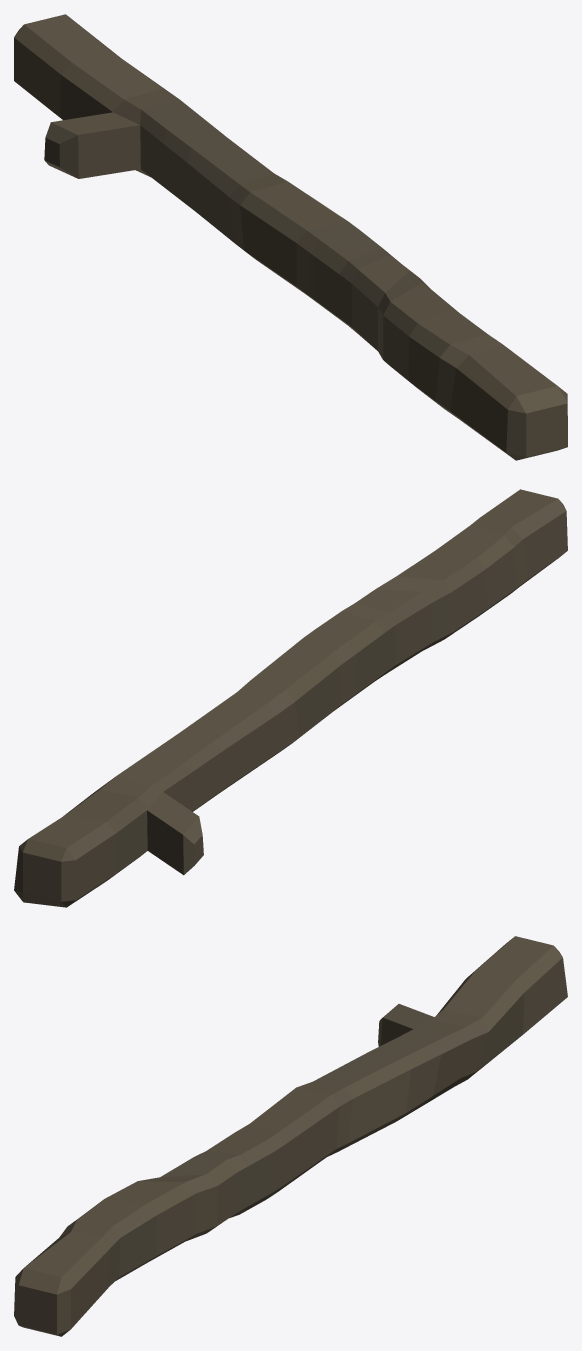
File: OakTwig.fbx
3 renders of one model, top to bottom at view 1: azimuth 30°, elevation 25°; view 2: azimuth 150°, elevation 25°; view 3: azimuth 330°, elevation 25°, orthographic. The views are drawn at different scales.
Visible parts, largest first — view 1: Cube; view 2: Cube; view 3: Cube.
Part boxes in pixels (x1=…): Cube: x1=14, y1=14, x2=567, y2=460; Cube: x1=14, y1=489, x2=567, y2=907; Cube: x1=14, y1=936, x2=567, y2=1336.
Size of the model in its own units: 99.98 by 73.62 by 749.
